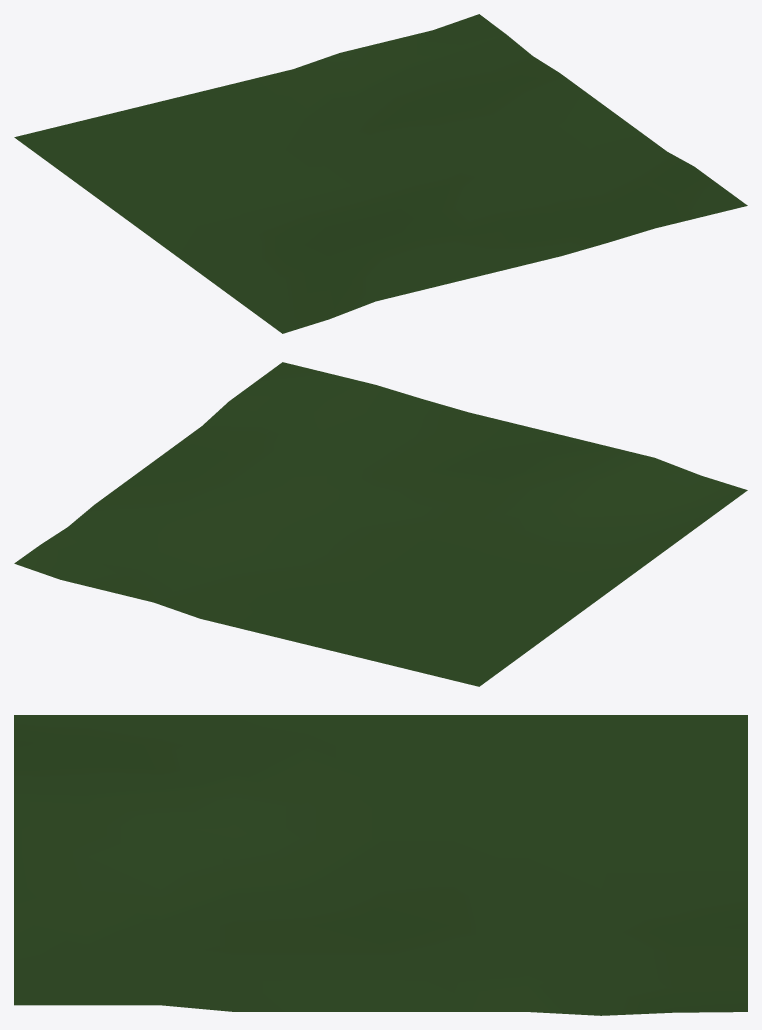
3 renders of one model, top to bottom at view 1: azimuth 30°, elevation 25°; view 2: azimuth 150°, elevation 25°; view 3: azimuth 270°, elevation 25°, orthographic. The views are drawn at different scales.
Parts seen in each view (by area): view 1: TerrainModel.066; view 2: TerrainModel.066; view 3: TerrainModel.066.
Boxes of the visible parts, <box> form: TerrainModel.066: <box>14,14,747,333</box>; TerrainModel.066: <box>14,362,747,686</box>; TerrainModel.066: <box>14,715,747,1015</box>.
Bounding box in the file's own units: 19608 × 588 × 19608.
